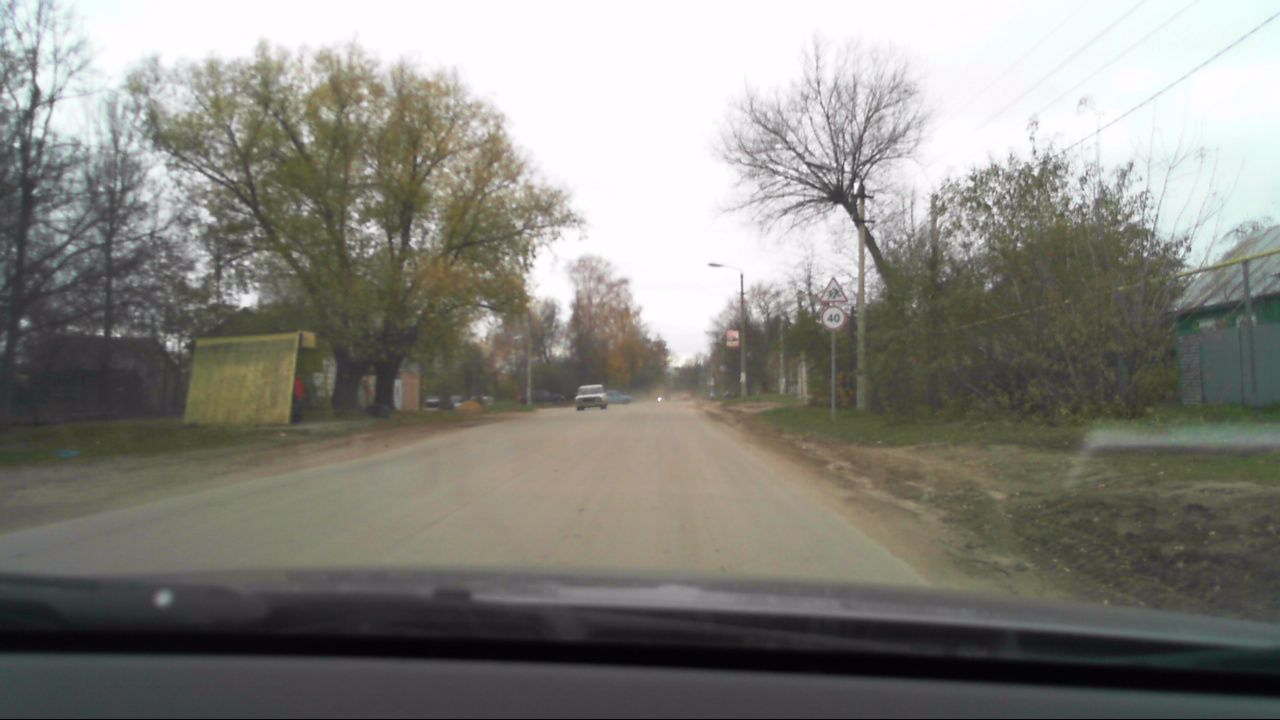speed_warning_40: (820, 304, 846, 328)
